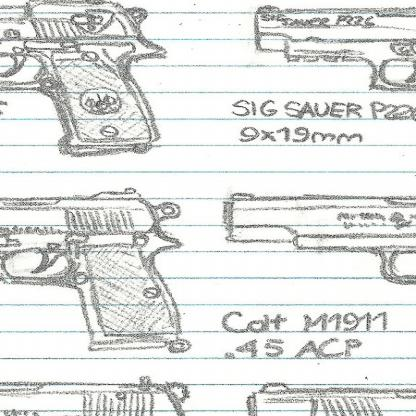gun: (225, 187, 415, 365), (0, 186, 192, 354), (247, 0, 415, 165), (0, 0, 169, 161)
